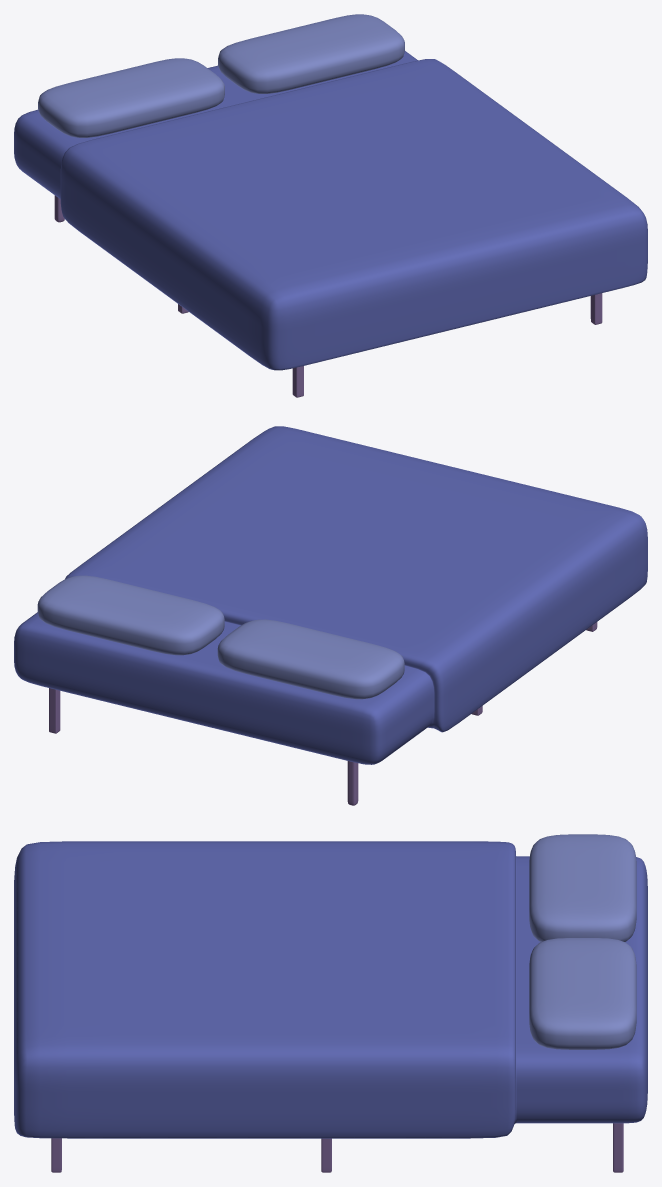
Rendered from bed.fbx.
3 renders of one model, top to bottom at view 1: azimuth 30°, elevation 25°; view 2: azimuth 150°, elevation 25°; view 3: azimuth 270°, elevation 25°, orthographic. The views are drawn at different scales.
Visible parts, largest first — view 1: bed; view 2: bed; view 3: bed.
Part boxes in pixels (x1,y1,x2,y2): bed: (14, 14, 647, 397); bed: (14, 426, 647, 805); bed: (14, 834, 647, 1172).
Bounding box in the file's own units: 48.65 × 16.23 × 59.06.
